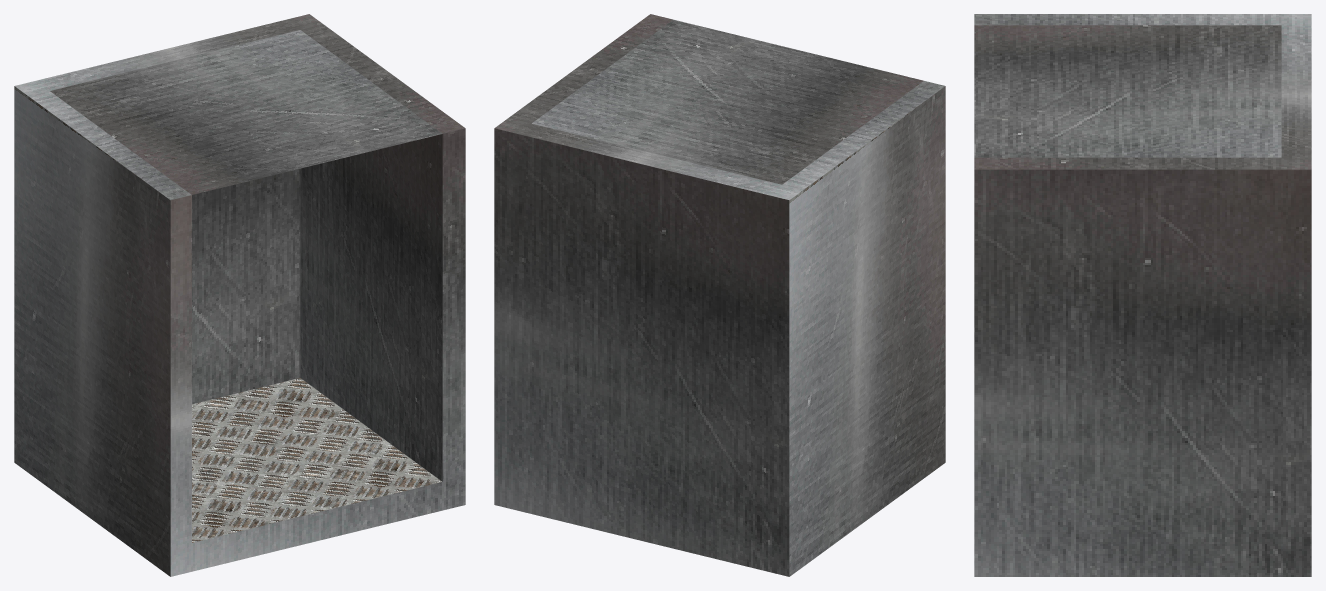
Rendered from lift.glb.
3 renders of one model, left to right at view 1: azimuth 30°, elevation 25°; view 2: azimuth 150°, elevation 25°; view 3: azimuth 270°, elevation 25°, orthographic. The views are drawn at different scales.
Visible parts, largest first — view 1: Cube.007; view 2: Cube.007; view 3: Cube.007.
Part boxes in pixels (left/top/right/bottom): Cube.007: left=14, top=14, right=465, bottom=576; Cube.007: left=494, top=14, right=945, bottom=576; Cube.007: left=974, top=14, right=1311, bottom=576.
Size of the model in its own units: 5.18 by 6.32 by 4.75.
1 material, 1 textured.
